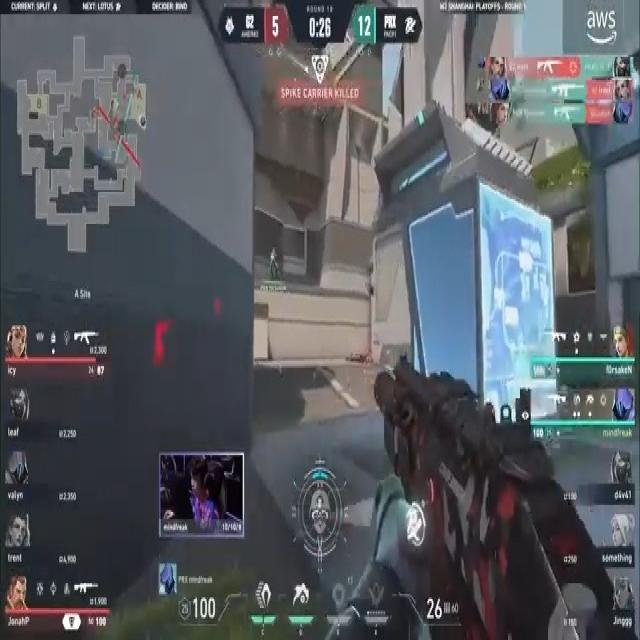ally: (265, 246, 283, 282)
